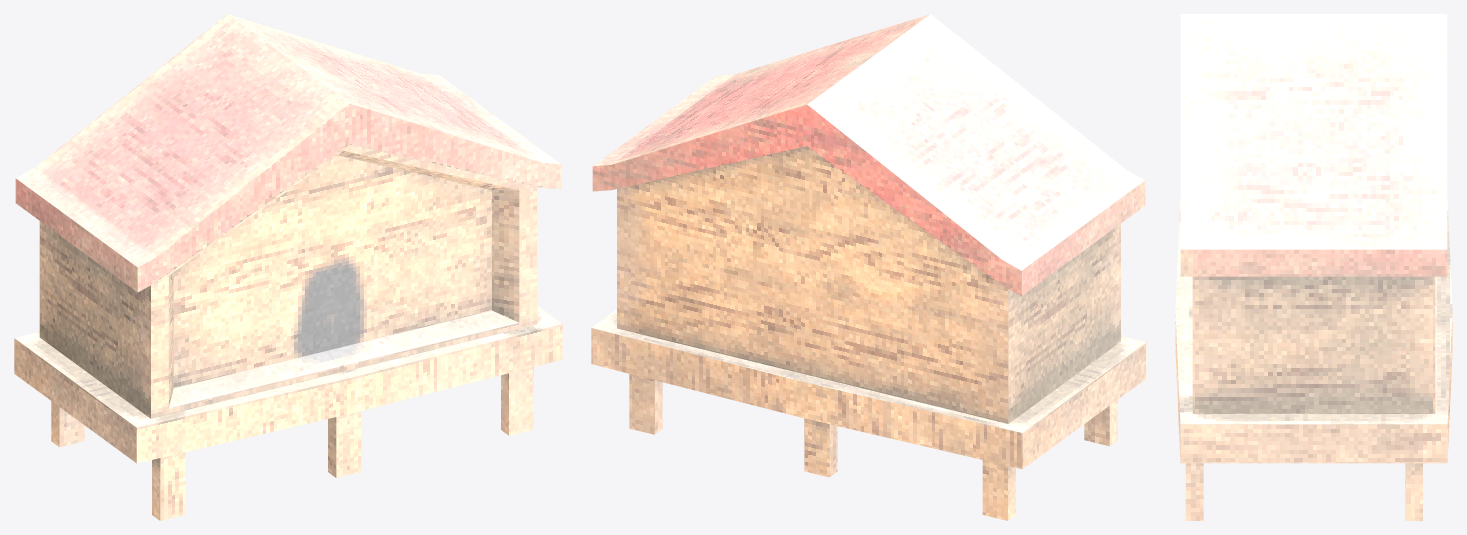
The model's file is Chicken_Coop_Var1.glb.
3 views of the same model, side by side, from view 1: azimuth 30°, elevation 25°; view 2: azimuth 150°, elevation 25°; view 3: azimuth 270°, elevation 25° (orthographic). The views are drawn at different scales.
Visible parts, largest first — view 1: Chicken-Coop_Variant_1; view 2: Chicken-Coop_Variant_1; view 3: Chicken-Coop_Variant_1.
Boxes of the visible parts, x1,y1,x2,y2 form: Chicken-Coop_Variant_1: [14, 14, 562, 520]; Chicken-Coop_Variant_1: [591, 14, 1146, 520]; Chicken-Coop_Variant_1: [1175, 14, 1452, 520].
Size of the model in its own units: 4.43 by 3.71 by 2.29.
